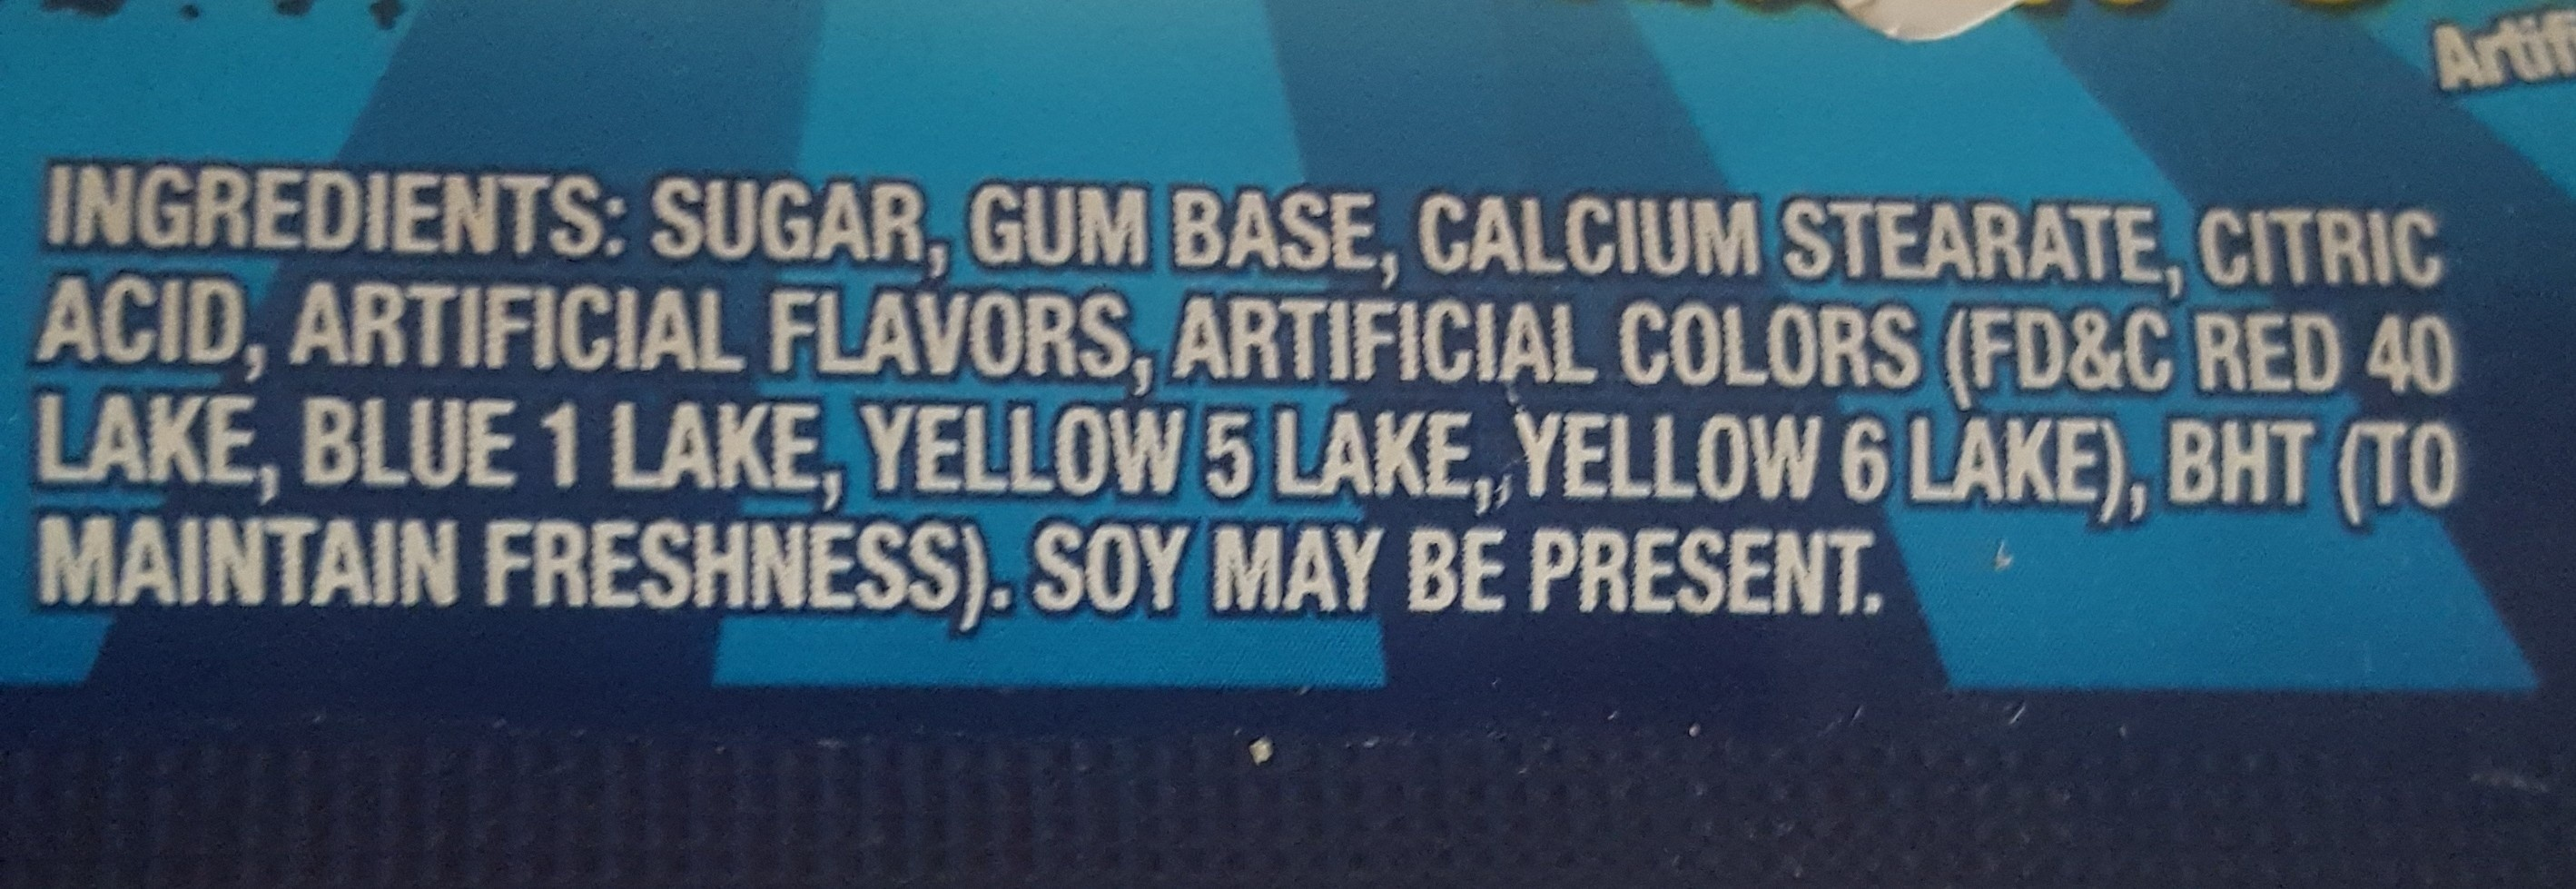ingredients: (11, 133, 2568, 662)
